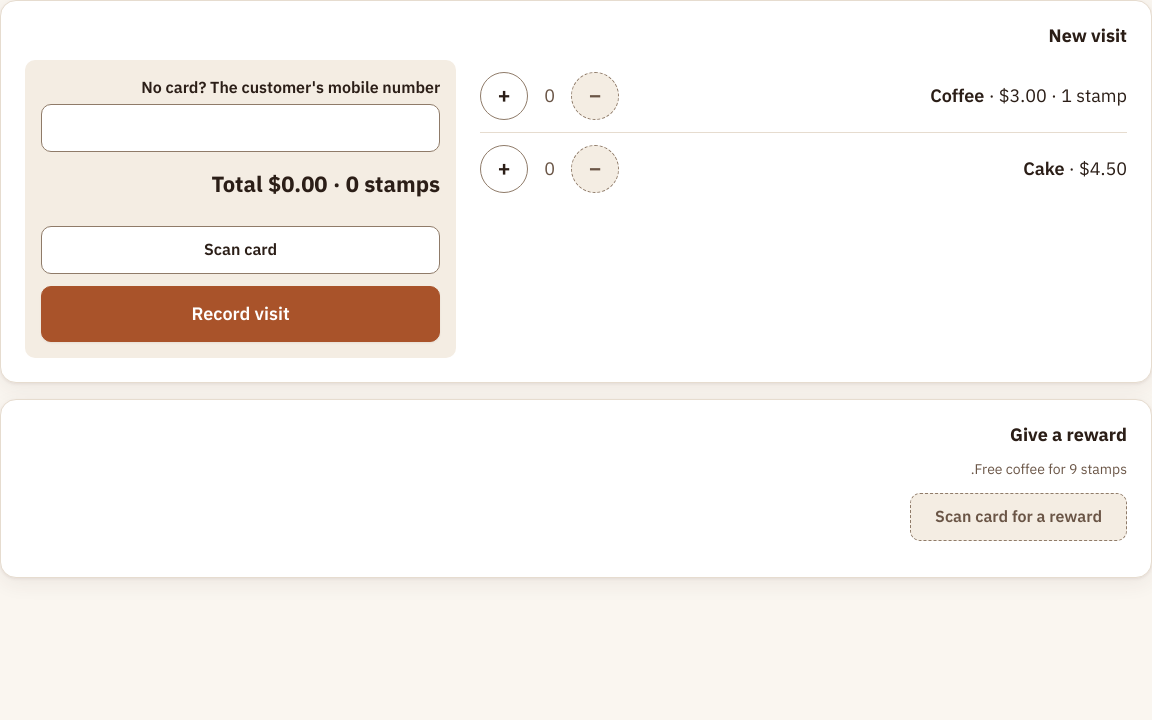
Test: visits › records what was ordered, priced as the menu shows it, for a phone number (AC 22, 32)
This screenshot has width=1152, height=720.
Click the button named "One more Coffee": {"x": 504, "y": 96} [480,72,528,120]
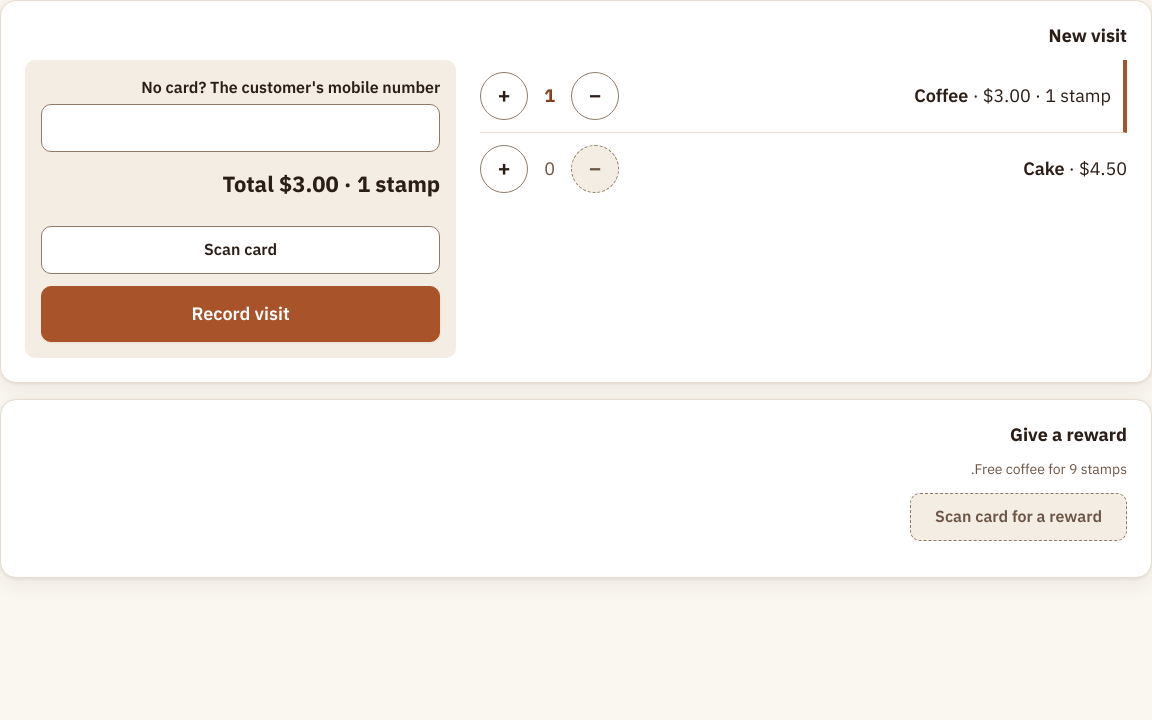
Click the button named "One more Coffee": {"x": 504, "y": 96} [480,72,528,120]
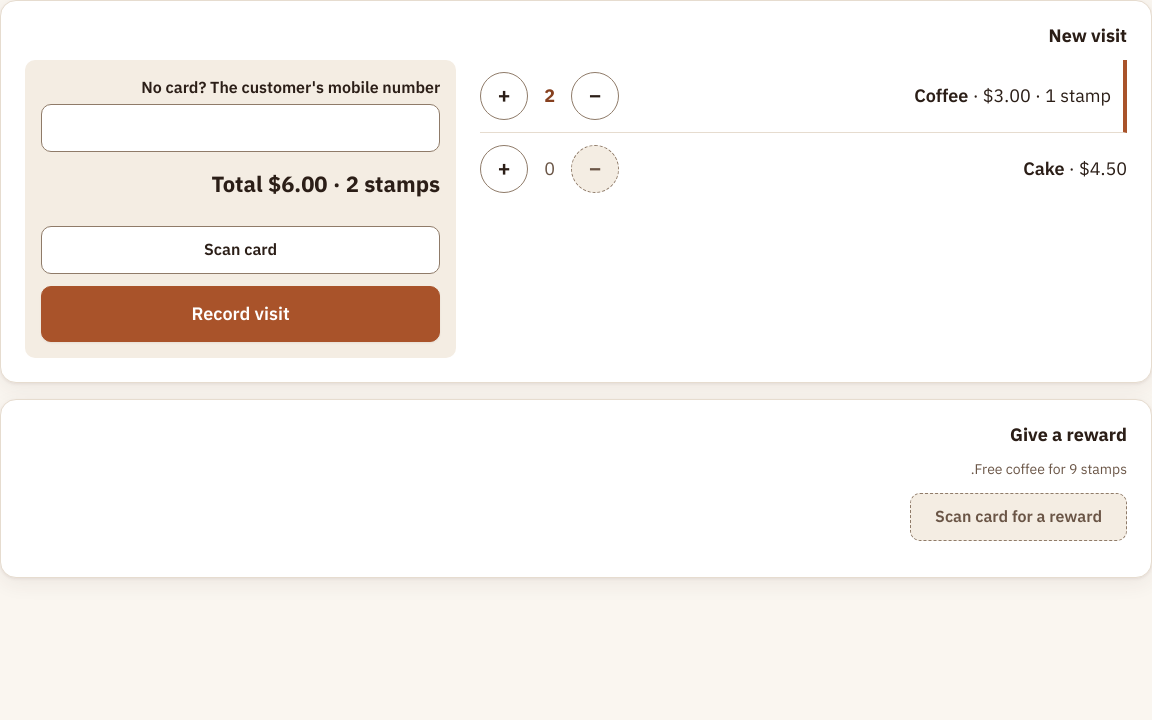
Click the button named "One more Cake": {"x": 504, "y": 168} [480,144,528,192]
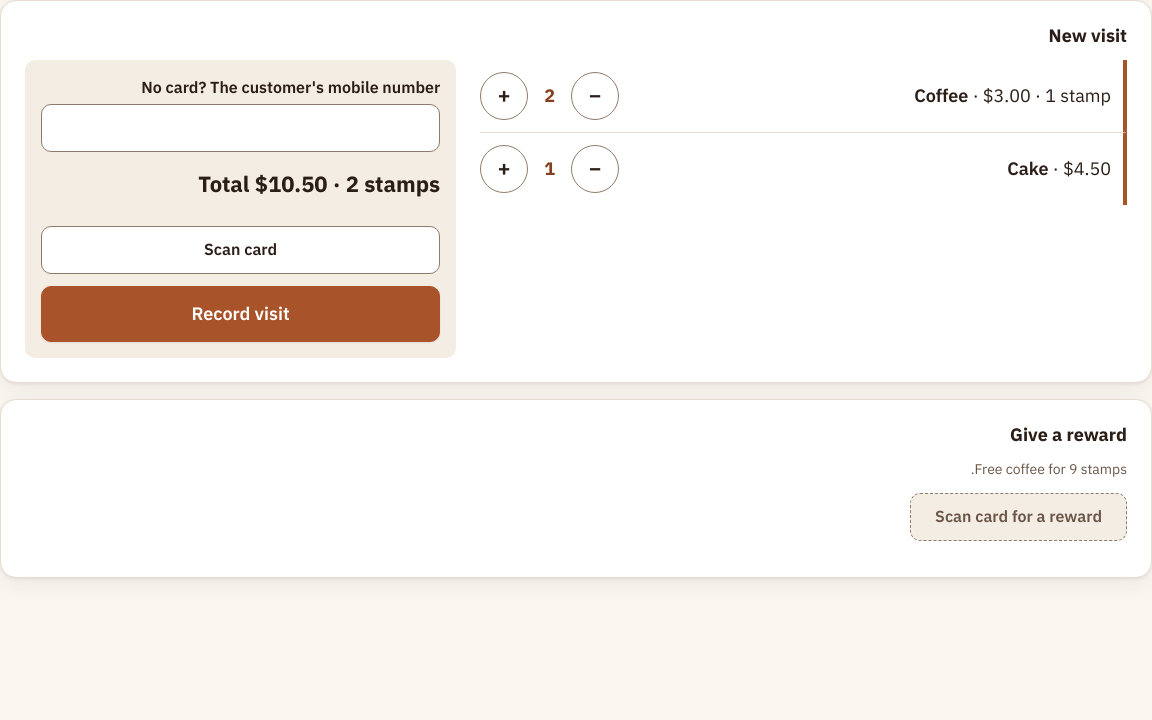
Check: the text "Total $10.50 · 2 stamps" is shown, box [198,168,440,201]
In the field labelled "No card? The customer's mobile number": {"x": 241, "y": 128} [41,104,440,152], type "70 123 456"
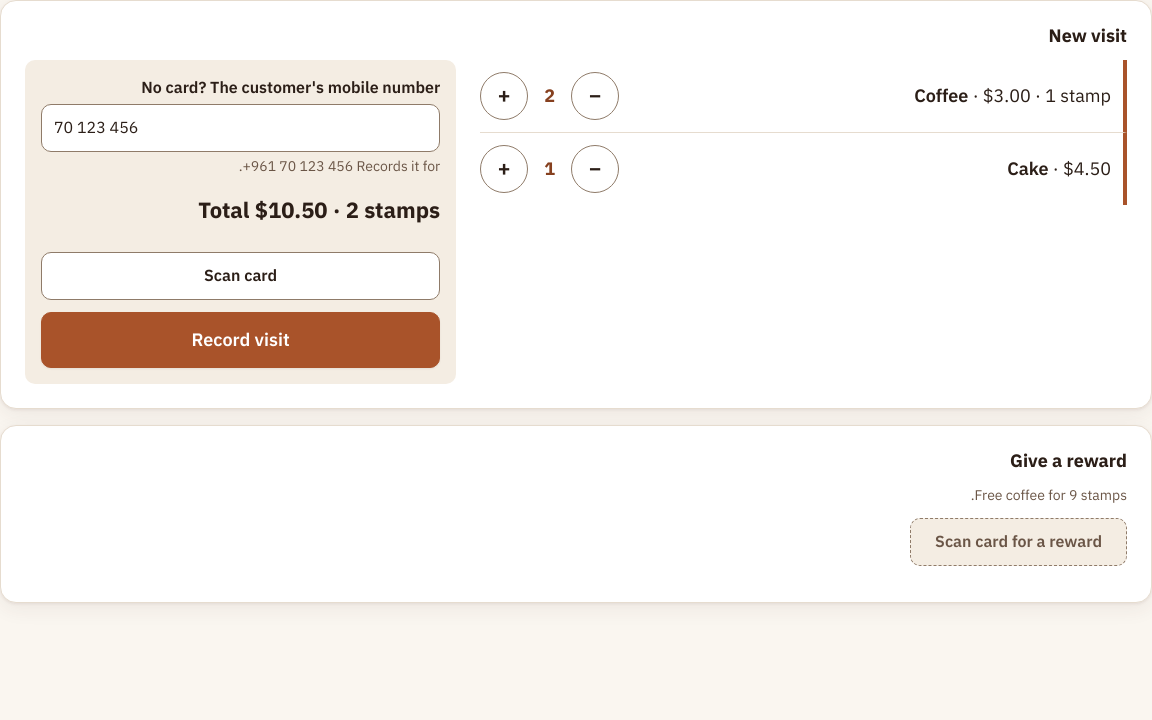
Click the button "Record visit": {"x": 241, "y": 340} [41,312,440,368]
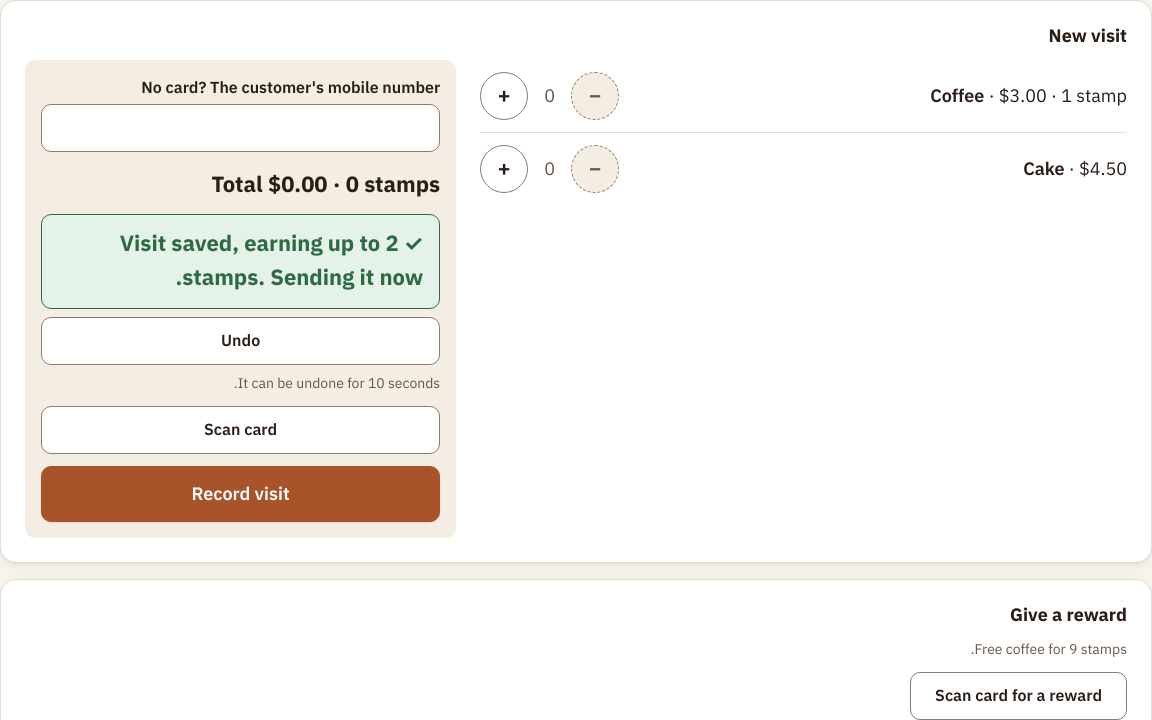
Check: the text "Visit saved, earning up to 2 stamps. Sending it now." is shown, box [41,214,440,309]
Check: the field labelled "No card? The customer's mobile number" is empty, box [41,104,440,152]
